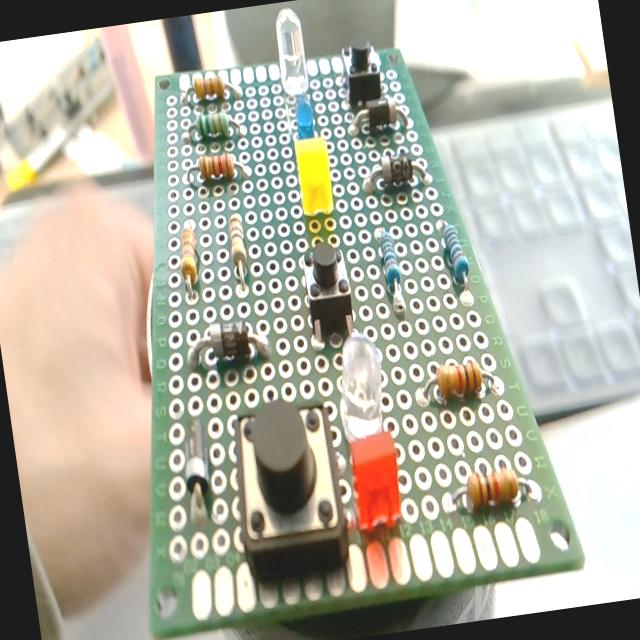diode: (184, 316, 274, 372), (176, 421, 217, 524), (360, 150, 430, 198), (346, 98, 410, 139)
led: (326, 330, 390, 442), (344, 428, 409, 534), (268, 2, 316, 106), (294, 136, 336, 216), (286, 88, 320, 142)
resistor: (413, 352, 502, 408), (446, 463, 530, 517), (436, 214, 477, 308), (373, 226, 408, 321), (184, 111, 247, 148), (225, 212, 252, 296), (190, 151, 250, 188), (182, 68, 240, 106), (176, 222, 203, 289)
switch: (224, 392, 354, 581), (300, 238, 358, 340), (338, 36, 387, 109)
